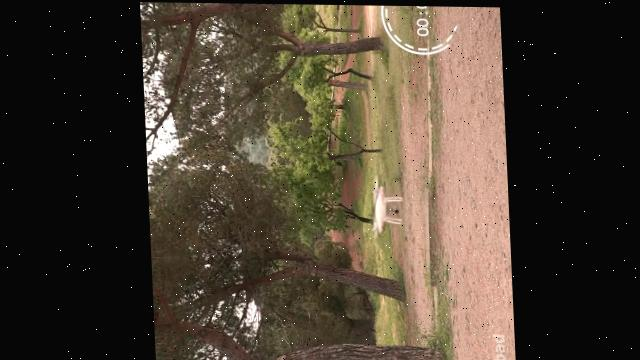drone: (365, 174, 404, 233)
